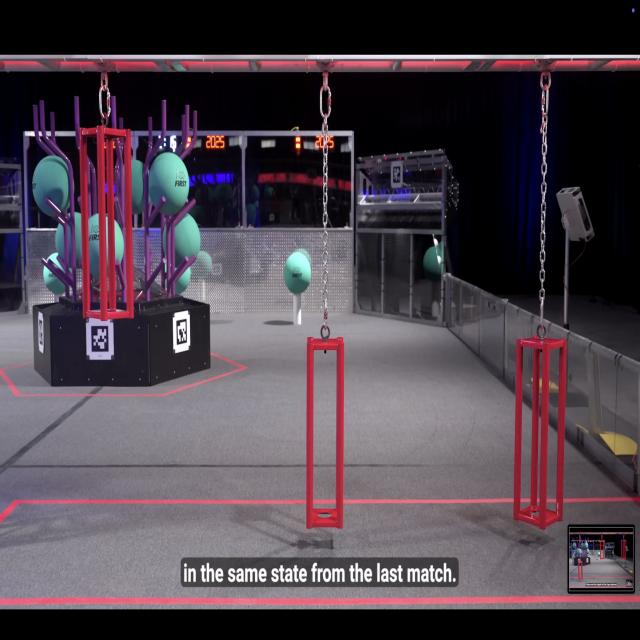algae: (147, 152, 195, 218), (31, 154, 74, 220), (81, 214, 123, 277), (163, 207, 202, 266), (119, 156, 149, 213), (57, 209, 87, 265), (42, 253, 77, 293), (282, 253, 314, 294), (166, 251, 192, 296)
coral: (291, 287, 306, 328)
